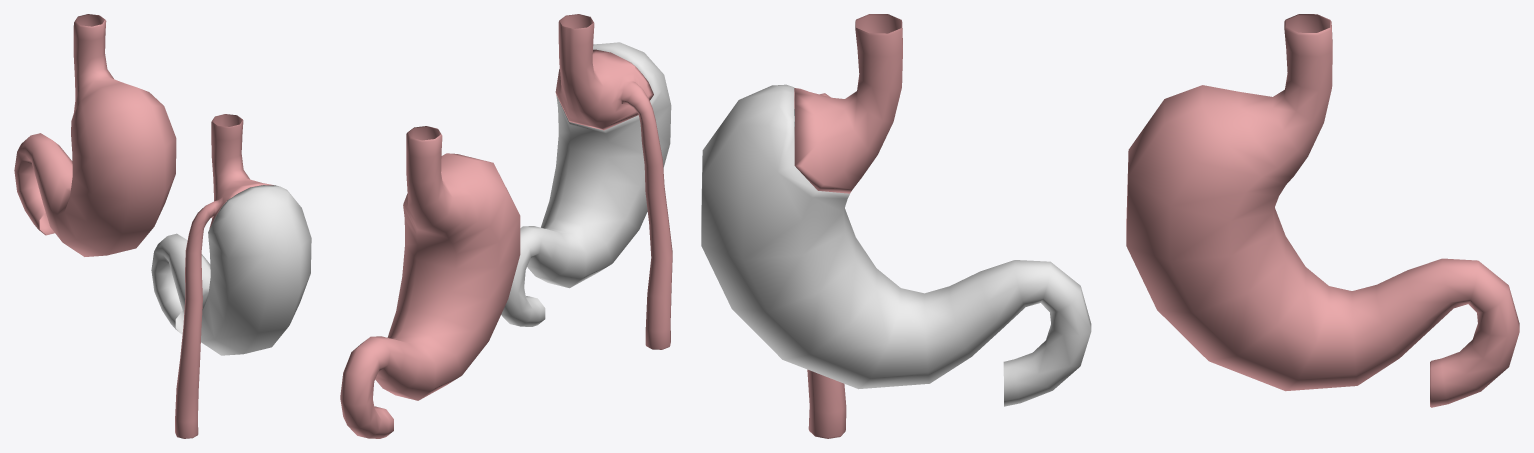
Rendered from ByPassDemo.fbx.
The picture shows the model from 3 angles, left to right: view 1: azimuth 30°, elevation 25°; view 2: azimuth 150°, elevation 25°; view 3: azimuth 270°, elevation 25°; orthographic projection. The views are drawn at different scales.
Parts seen in each view (by area): view 1: estomac.001, estomac_coupe_bas, estomac_bypass_haut; view 2: estomac.001, estomac_coupe_bas, estomac_bypass_haut; view 3: estomac.001, estomac_coupe_bas, estomac_bypass_haut.
Boxes of the visible parts, bbox=[...] form: estomac.001: bbox=[14, 14, 176, 256]; estomac_coupe_bas: bbox=[151, 185, 311, 355]; estomac_bypass_haut: bbox=[175, 114, 273, 438]; estomac.001: bbox=[340, 126, 520, 438]; estomac_coupe_bas: bbox=[501, 42, 671, 326]; estomac_bypass_haut: bbox=[555, 14, 672, 349]; estomac.001: bbox=[1126, 14, 1519, 407]; estomac_coupe_bas: bbox=[701, 84, 1091, 406]; estomac_bypass_haut: bbox=[794, 14, 902, 438].
Bounding box in the file's own units: 195 × 490 × 803.
